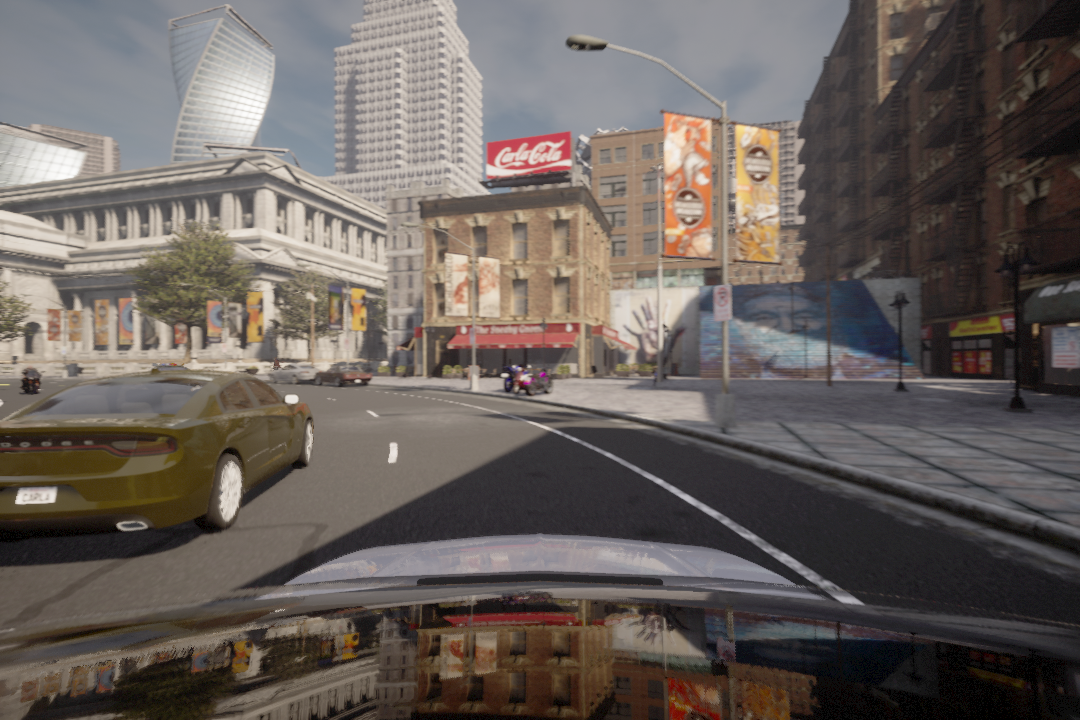TrafficSign_nstop: (713, 285, 731, 324)
